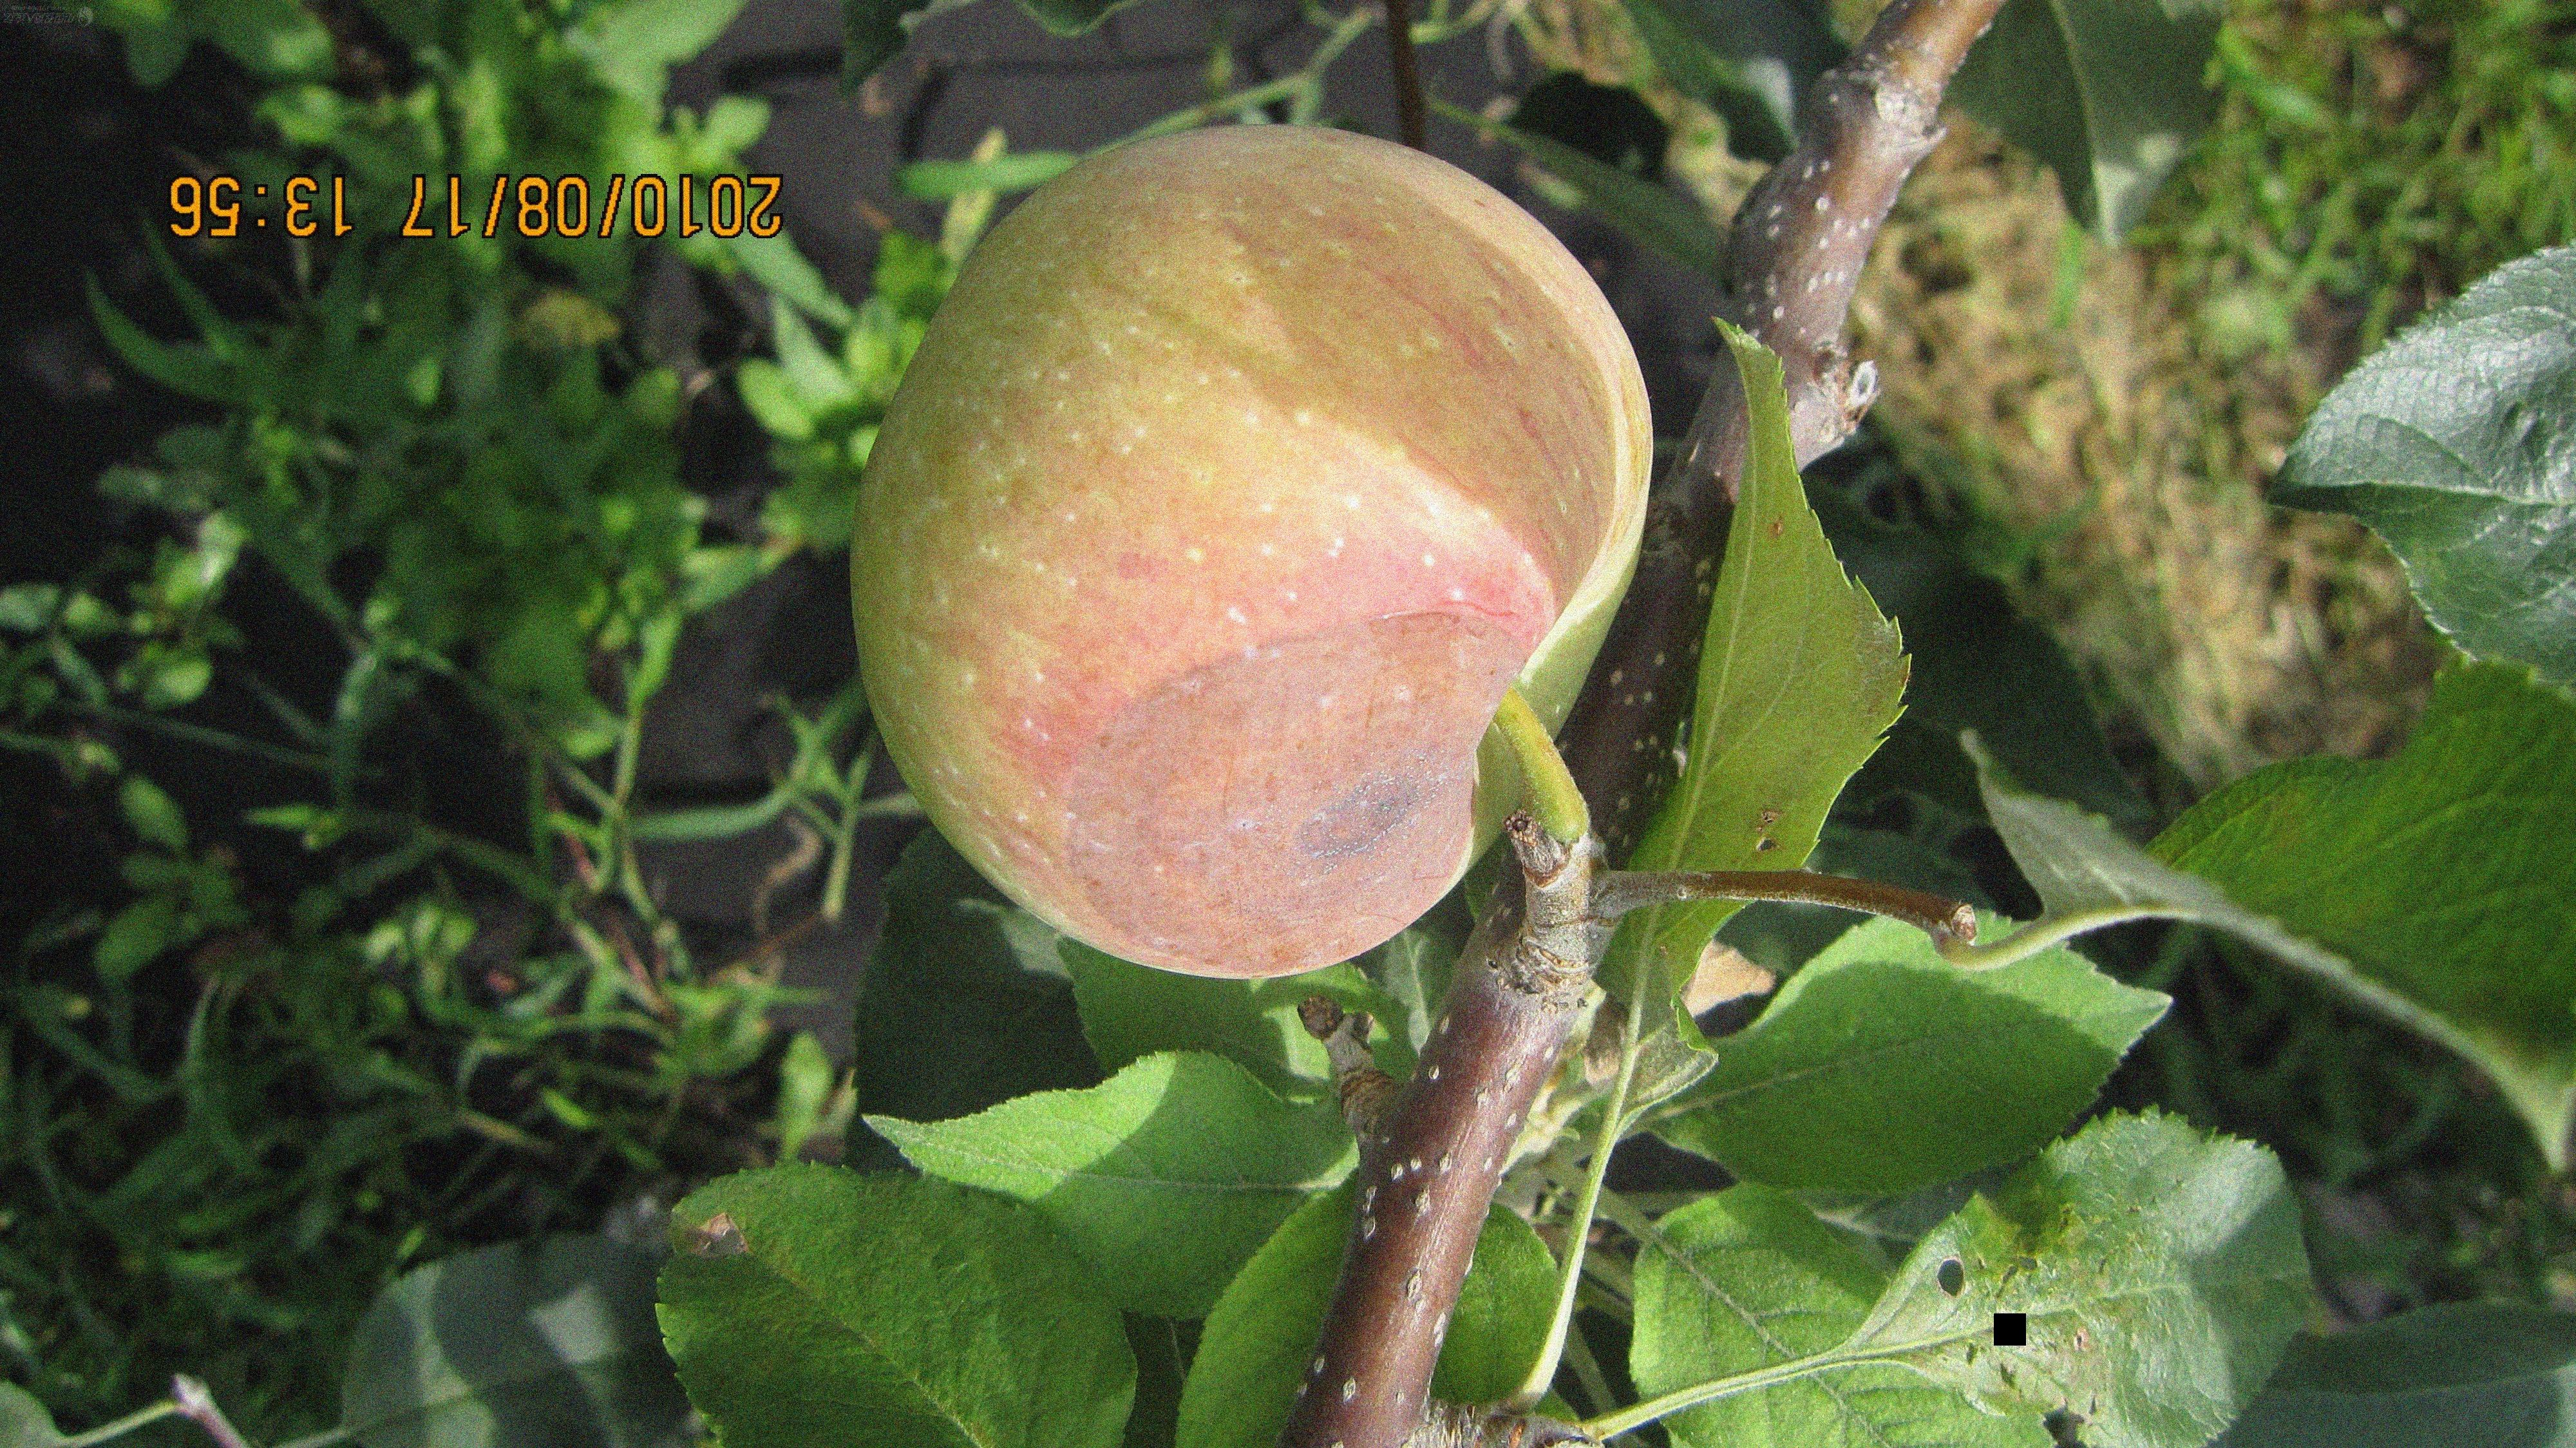rotten apple: (849, 99, 1652, 977)
